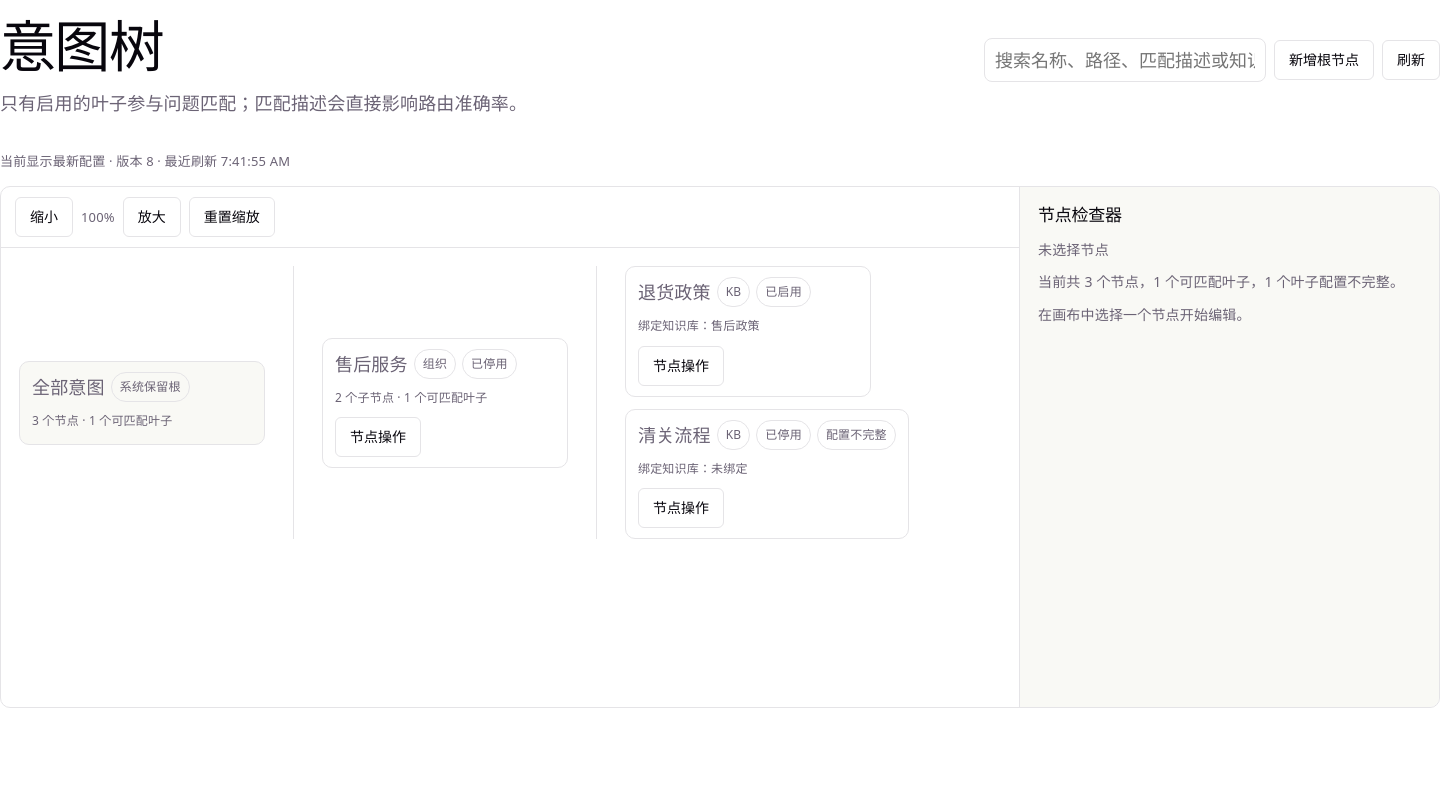
Test case: 意图树 C — 危险命令与启停 › 启用整个子树遇到阻塞节点时列出阻塞并禁用主操作
Click the list item with aria-label "售后服务 · 组织 · 已停用".
click(615, 403)  # box [322,266,909,539]
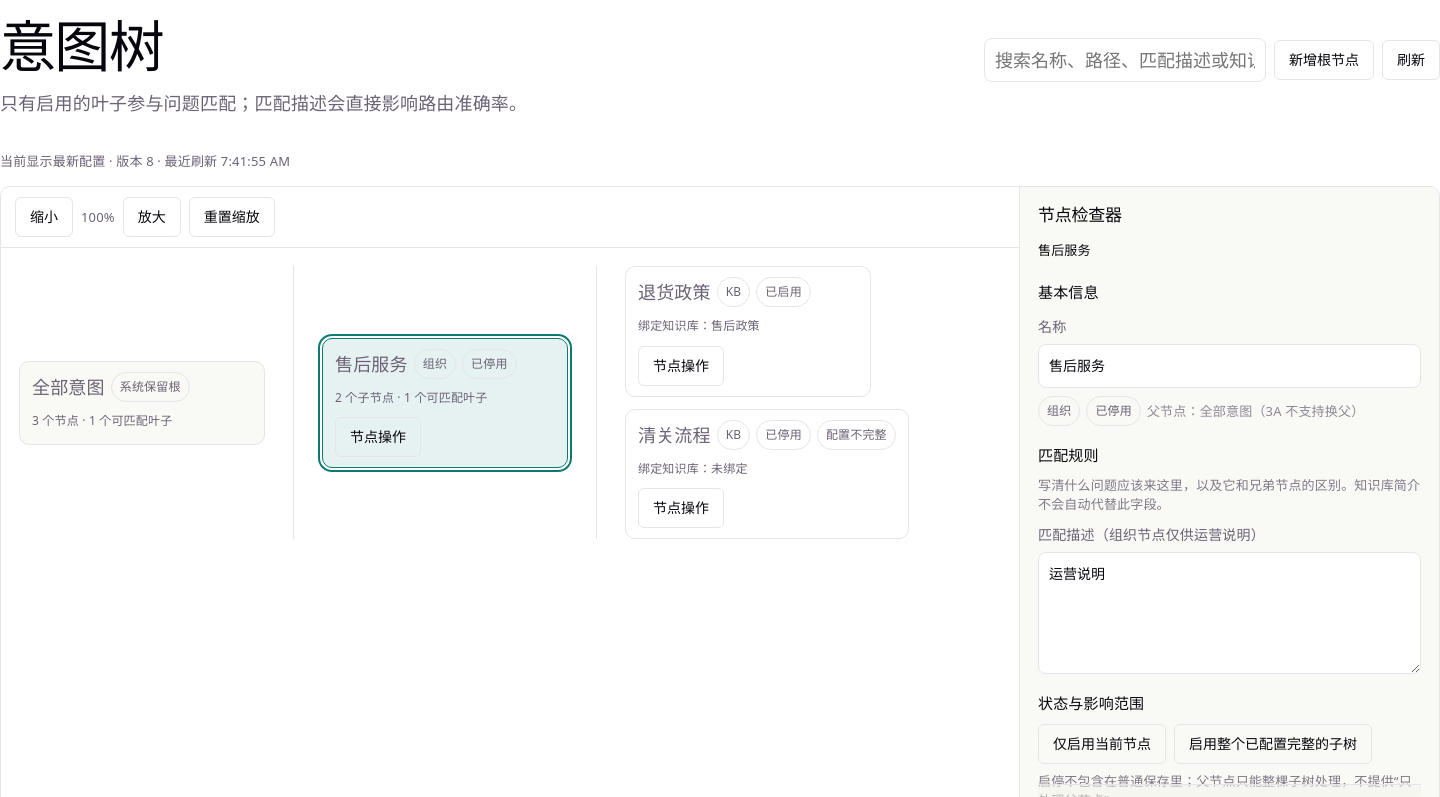
Click the button "启用整个已配置完整的子树".
click(1273, 744)  # box [1174,724,1372,764]
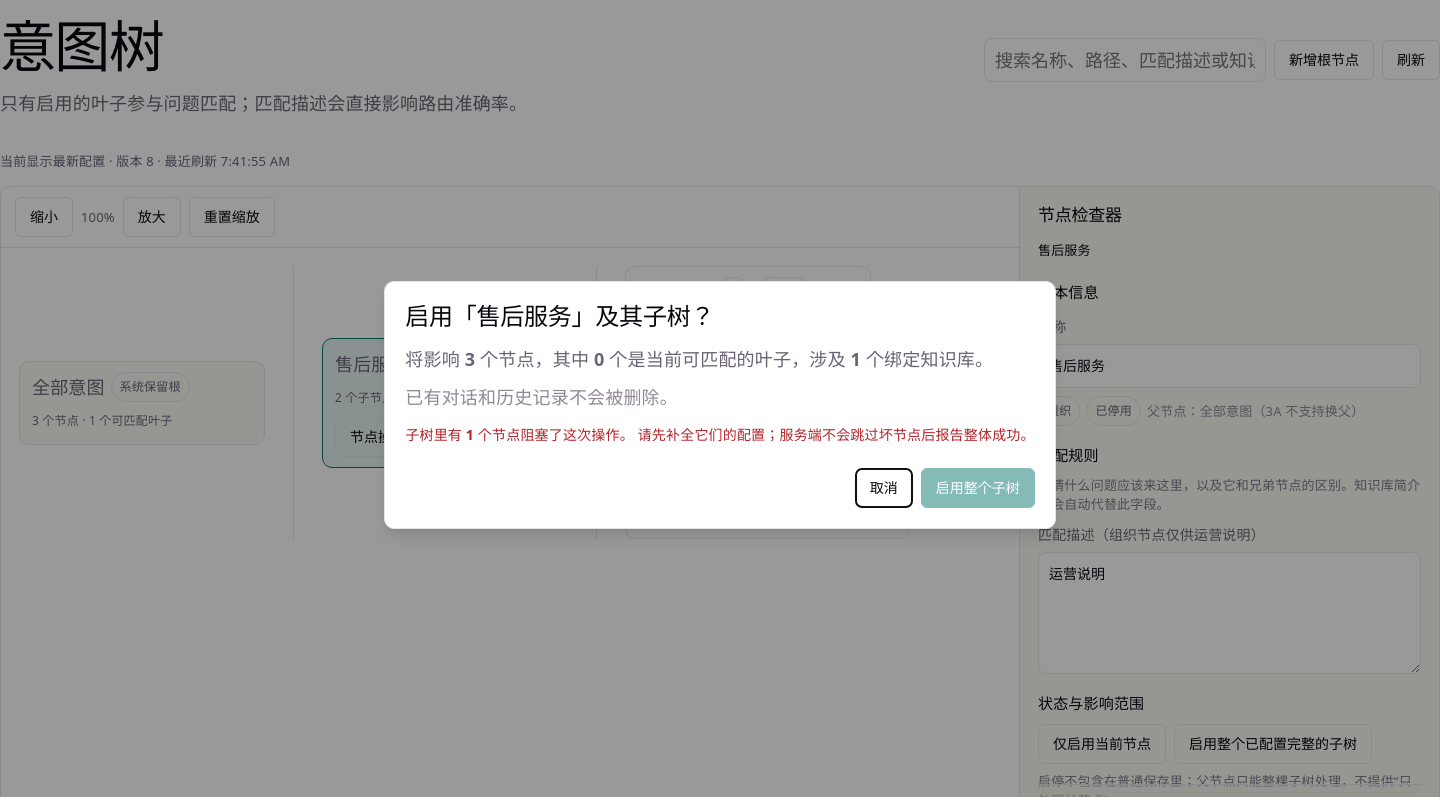
Expected: the text "子树里有 1 个节点阻塞了这次操作。" is shown, [405,425,634,444]
Expected: the button "启用整个子树" is disabled, [921,468,1035,508]
